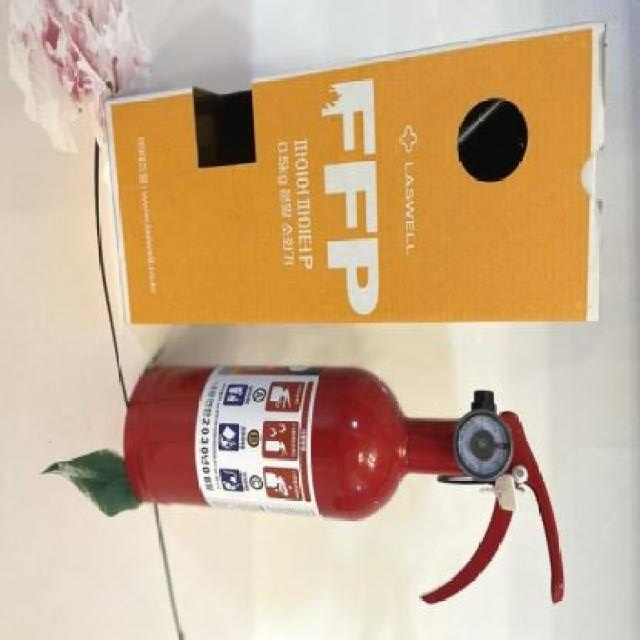fire extinguisher: (121, 364, 564, 605)
